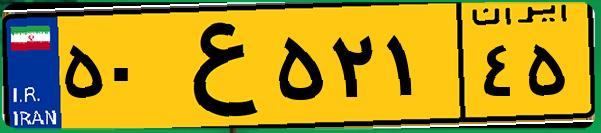0: (110, 28, 158, 98)
1: (385, 28, 445, 110)
2: (330, 28, 385, 110)
4: (475, 38, 525, 113)
5: (270, 28, 330, 110), (57, 26, 110, 100), (525, 38, 570, 115)
ع: (158, 12, 270, 120)
